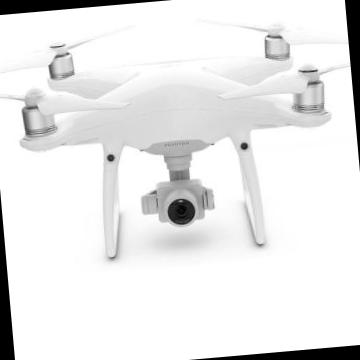drone: (0, 17, 358, 188)
